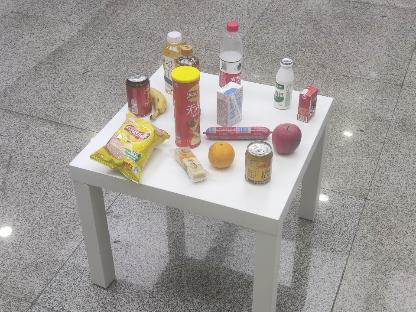Can: (245, 140, 273, 186), (126, 72, 152, 118)
Others: (168, 66, 206, 148), (215, 80, 247, 128), (297, 81, 320, 125)
Plastic Bottle: (218, 22, 249, 80), (273, 58, 296, 111)
